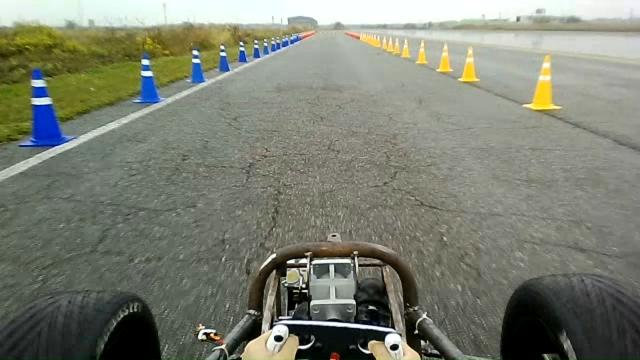blue cone: (17, 67, 76, 147), (132, 53, 165, 103), (186, 46, 207, 84), (217, 43, 230, 72), (237, 40, 248, 62), (252, 39, 261, 58)
yellow cone: (522, 54, 562, 111), (457, 45, 480, 82), (435, 42, 453, 73), (415, 39, 428, 64), (400, 38, 411, 58), (392, 38, 401, 56)
